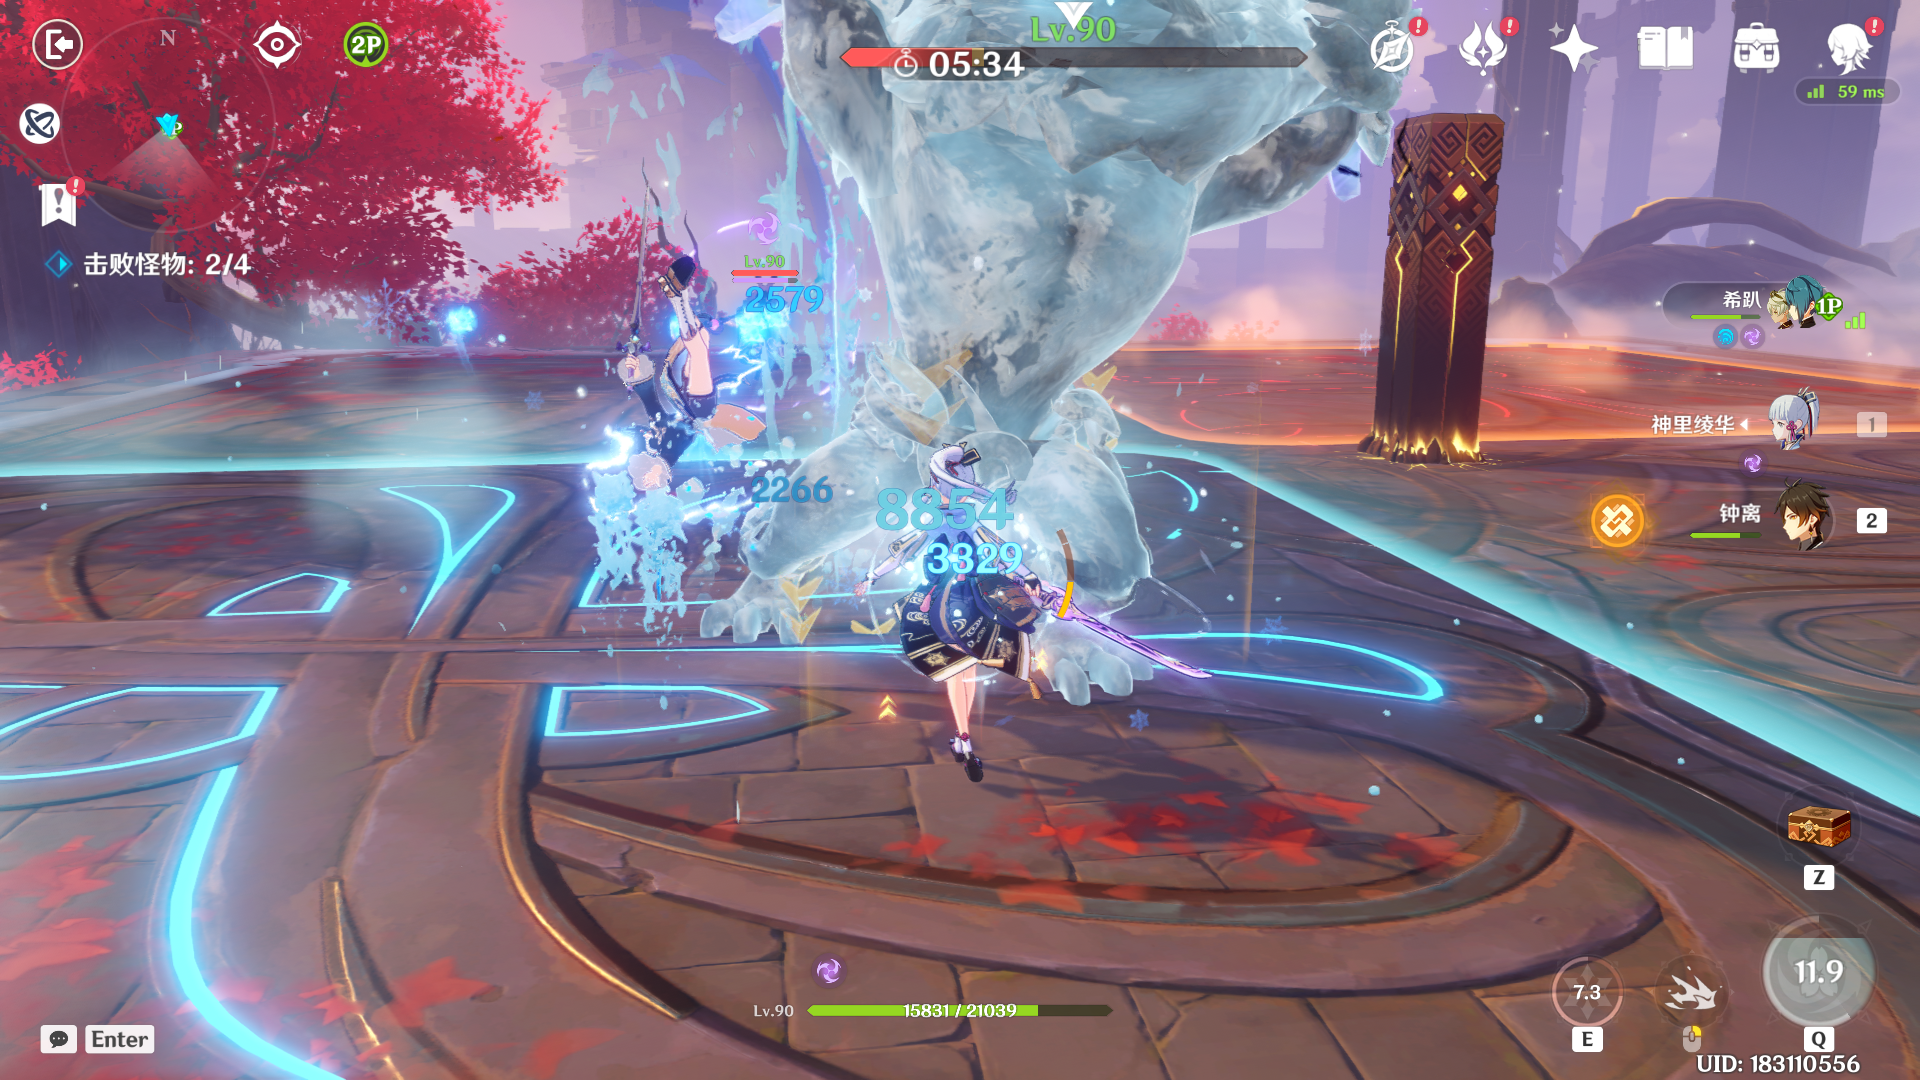character: (843, 427, 1106, 807), (584, 239, 729, 512)
